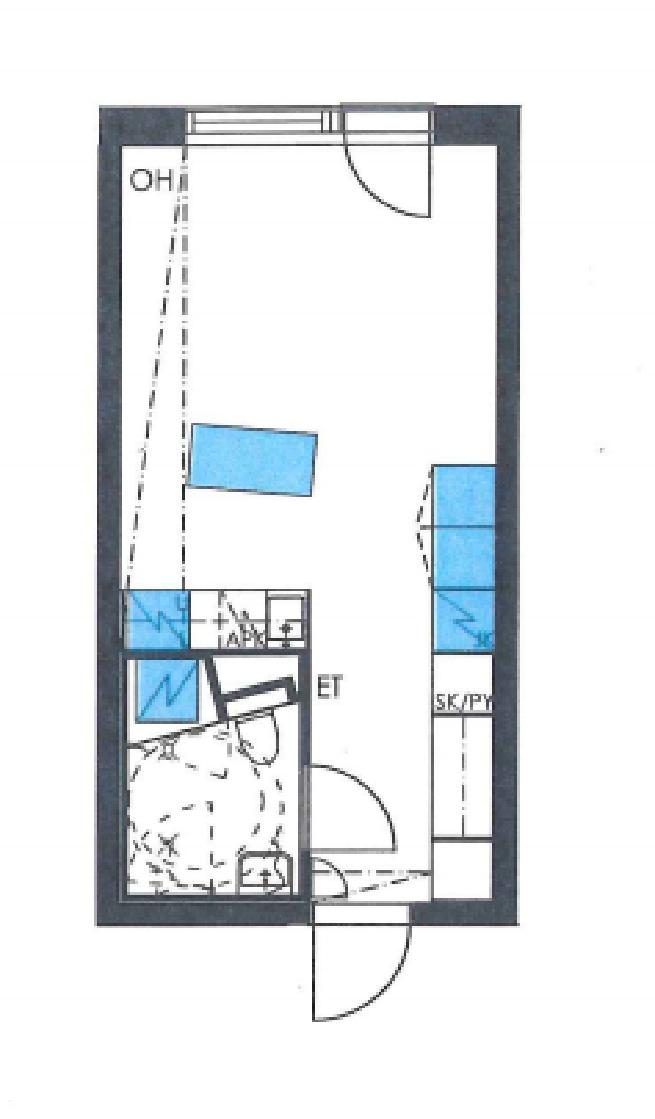door: (305, 895, 409, 1038), (340, 99, 437, 225), (292, 766, 414, 860)
window: (189, 112, 334, 141)
zone: (129, 141, 500, 897), (124, 652, 293, 906)
